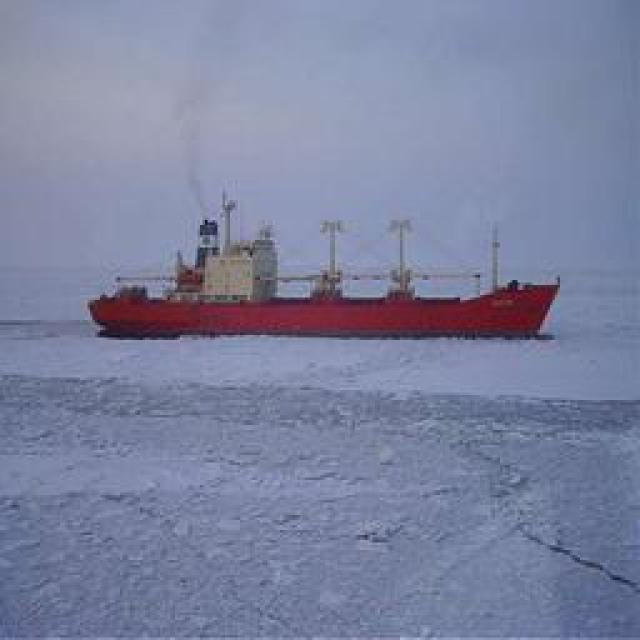Ship: (92, 194, 562, 347)
